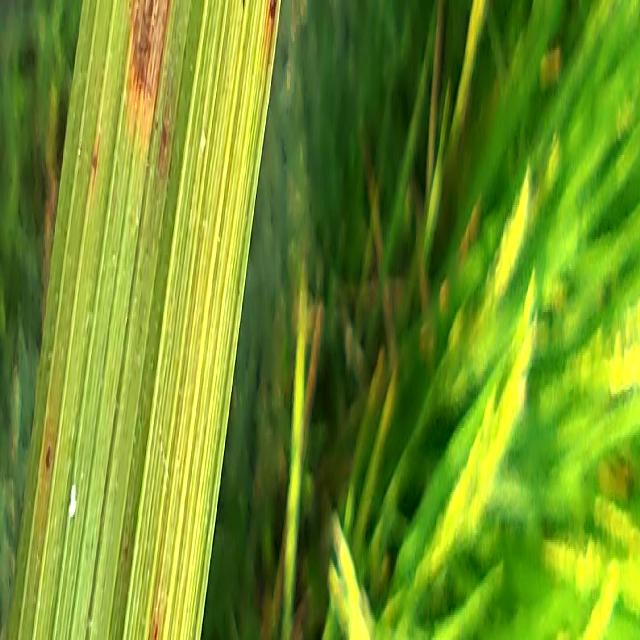LEAF BLAST: (127, 0, 173, 123), (264, 0, 279, 46)
